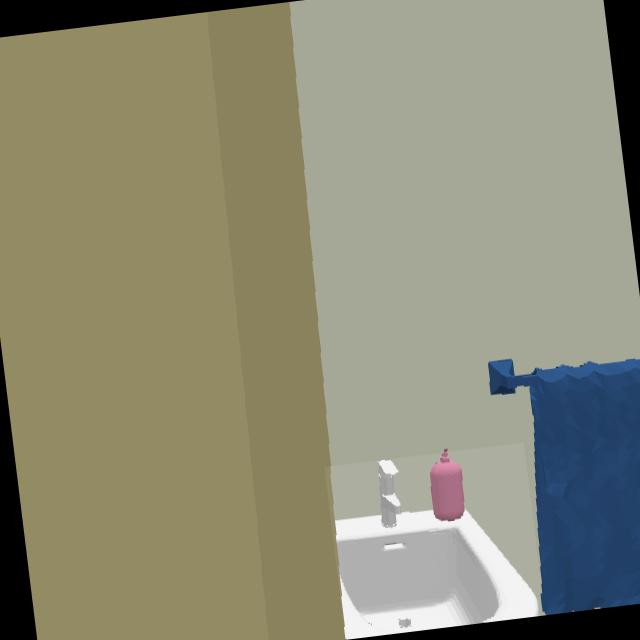washbasin: (336, 460, 543, 638)
